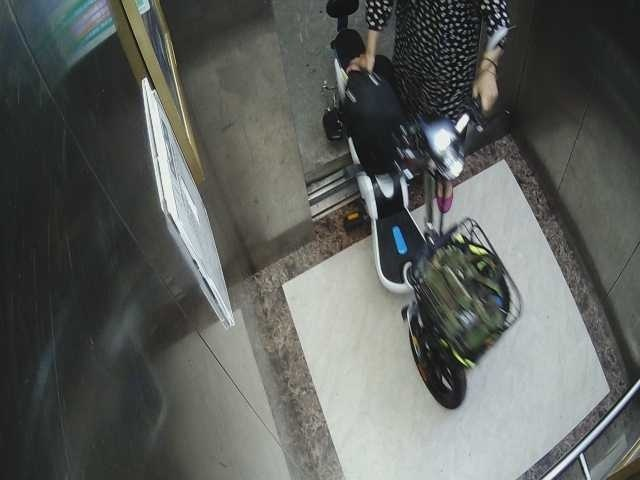emotor: (318, 3, 519, 420)
